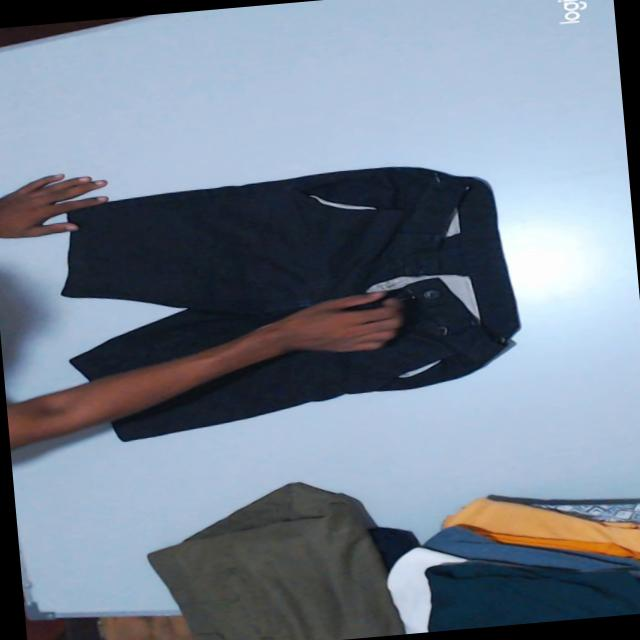new-garment: (61, 166, 518, 440)
